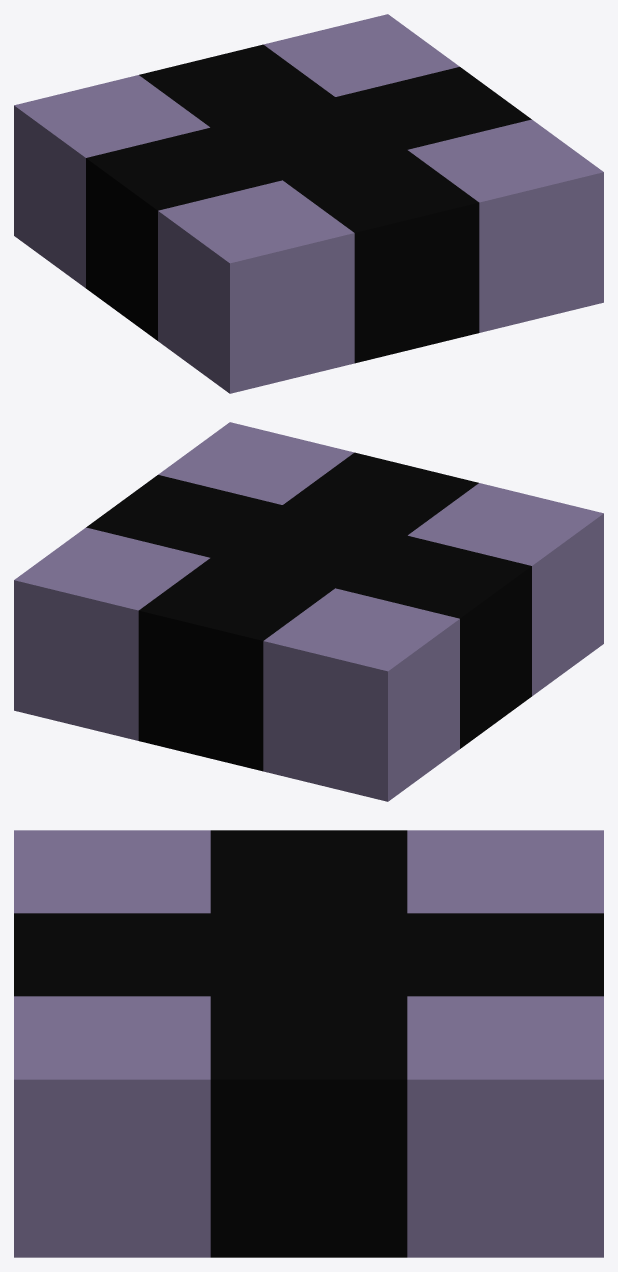
File: spinning_blades_path_a_crossing.obj
3 renders of one model, top to bottom at view 1: azimuth 30°, elevation 25°; view 2: azimuth 150°, elevation 25°; view 3: azimuth 270°, elevation 25°, orthographic. The views are drawn at different scales.
Bounding box in the file's own units: 0.3 × 0.1 × 0.3.
Materials: 1 (1 with a texture image).
